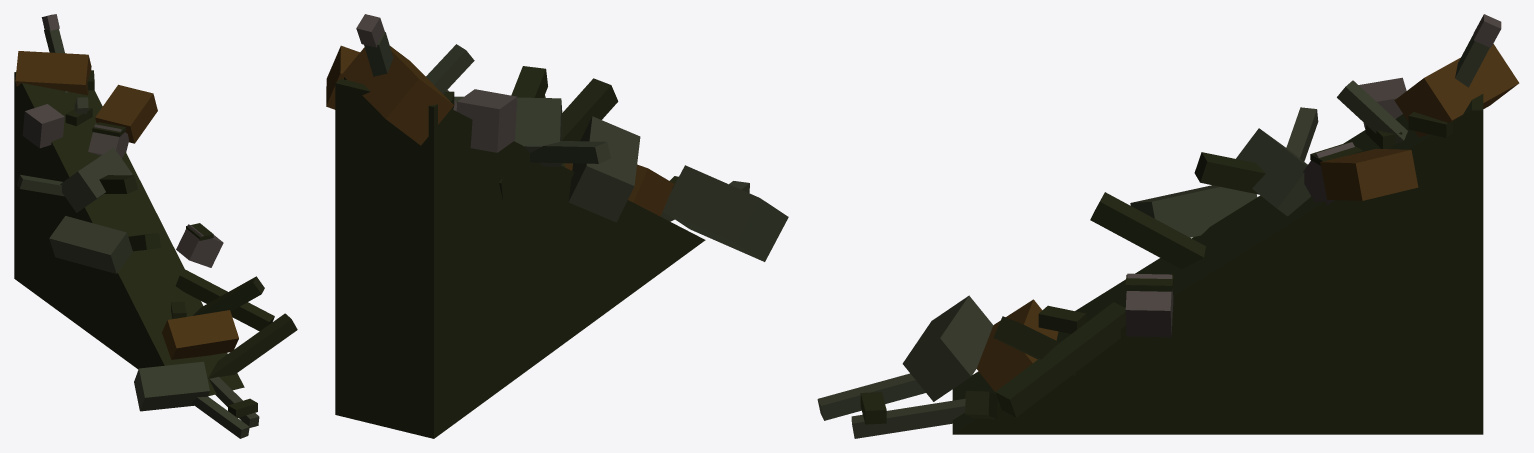
Rendered from SM_PilaZombi_Altura3_s0_LOD0.fbx.
3 views of the same model, side by side, from view 1: azimuth 30°, elevation 25°; view 2: azimuth 150°, elevation 25°; view 3: azimuth 270°, elevation 25° (orthographic). The views are drawn at different scales.
Visible parts, largest first — view 1: SM_pila_zombis_v2_LOD0; view 2: SM_pila_zombis_v2_LOD0; view 3: SM_pila_zombis_v2_LOD0.
Boxes of the visible parts, <box> form: SM_pila_zombis_v2_LOD0: <box>14,14,297,438</box>; SM_pila_zombis_v2_LOD0: <box>326,14,788,438</box>; SM_pila_zombis_v2_LOD0: <box>817,14,1519,438</box>.
Bounding box in the file's own units: 1.45 × 2.15 × 3.28.
